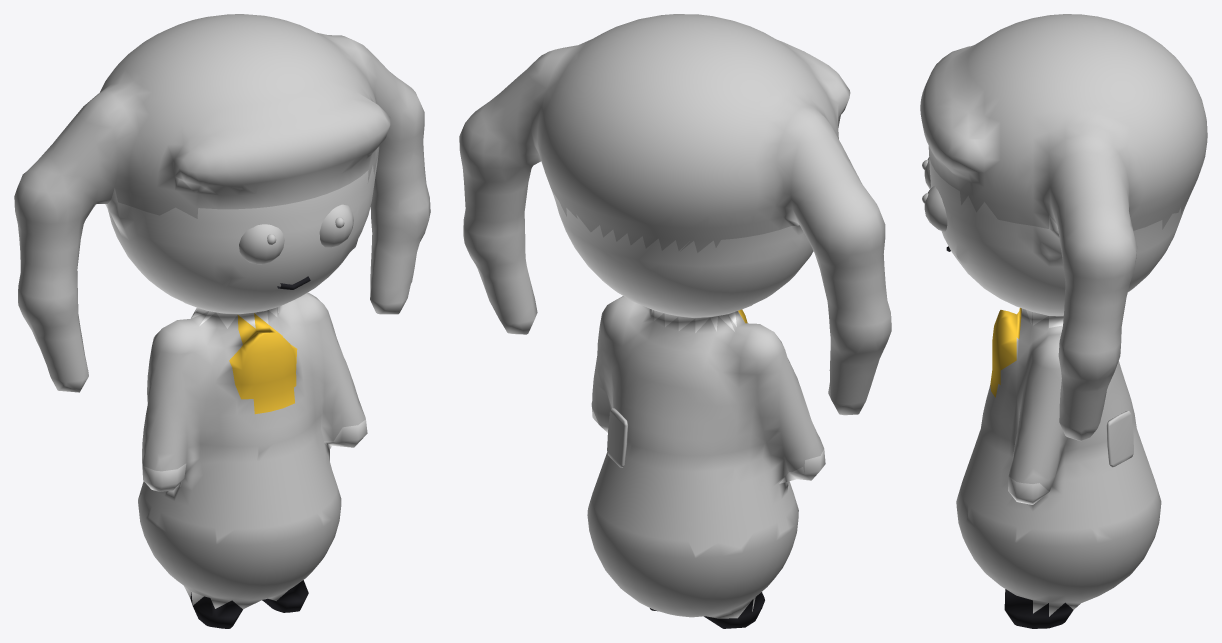
The model's file is idol_girl_b.fbx.
The picture shows the model from 3 angles, left to right: view 1: azimuth 30°, elevation 25°; view 2: azimuth 150°, elevation 25°; view 3: azimuth 270°, elevation 25°; orthographic projection. The views are drawn at different scales.
Parts seen in each view (by area): view 1: idol_girl_b; view 2: idol_girl_b; view 3: idol_girl_b.
Part boxes in pixels (bbox=[...]): idol_girl_b: bbox=[14, 14, 430, 628]; idol_girl_b: bbox=[459, 14, 891, 628]; idol_girl_b: bbox=[920, 14, 1207, 628].
Size of the model in its own units: 0.9154 by 1.24 by 0.5594.
